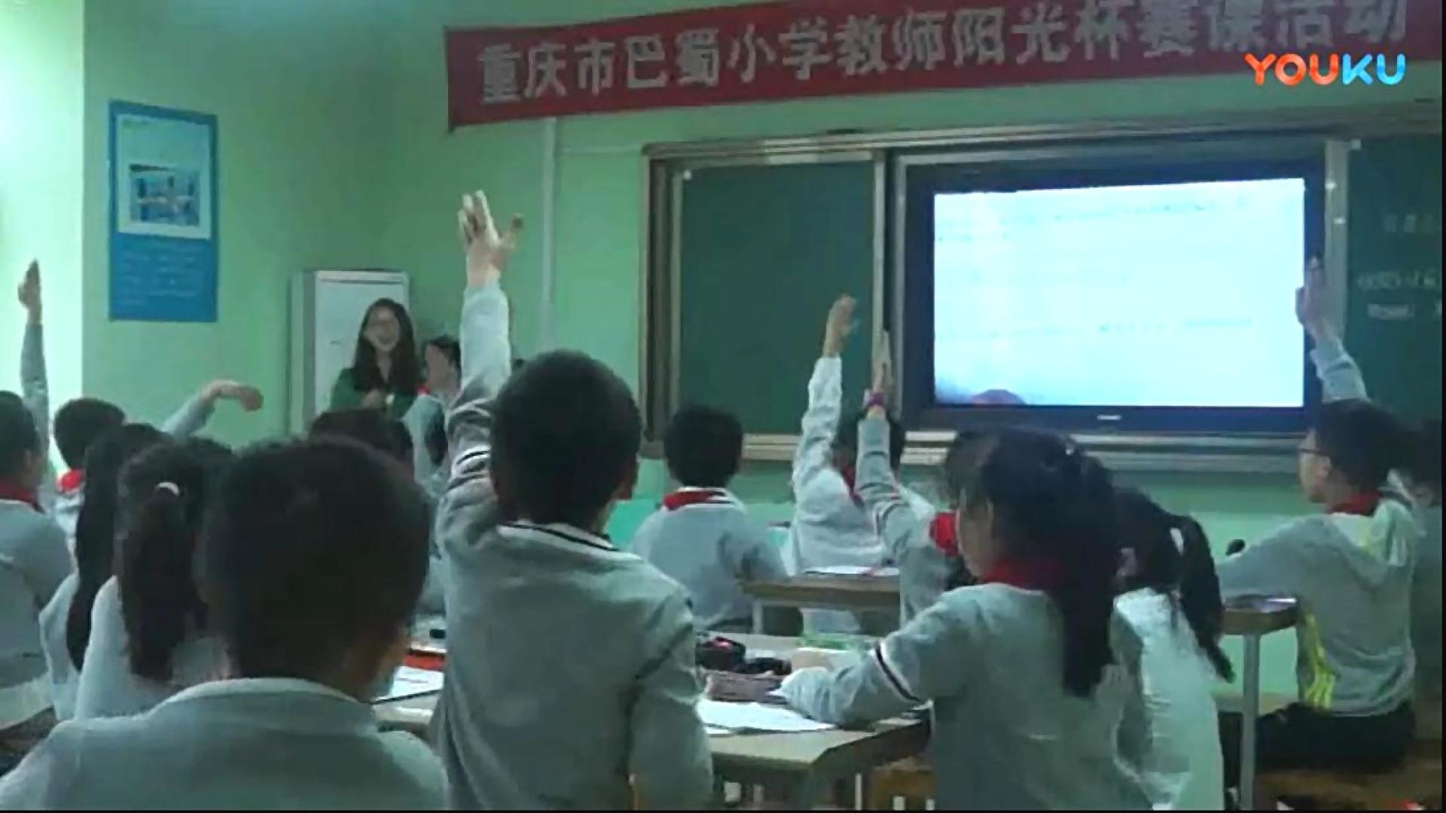Wave: (452, 207, 520, 460), (1294, 273, 1364, 403), (814, 294, 855, 479), (865, 348, 908, 508), (10, 270, 62, 391)
